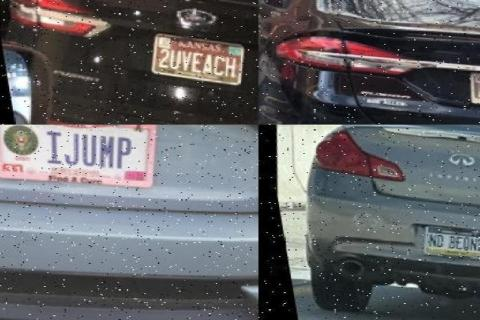LicensePlate: (0, 124, 150, 187), (142, 31, 236, 84), (414, 223, 478, 260)
